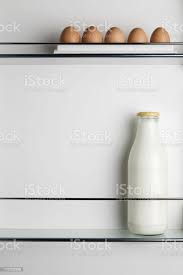milk: (127, 97, 174, 240)
